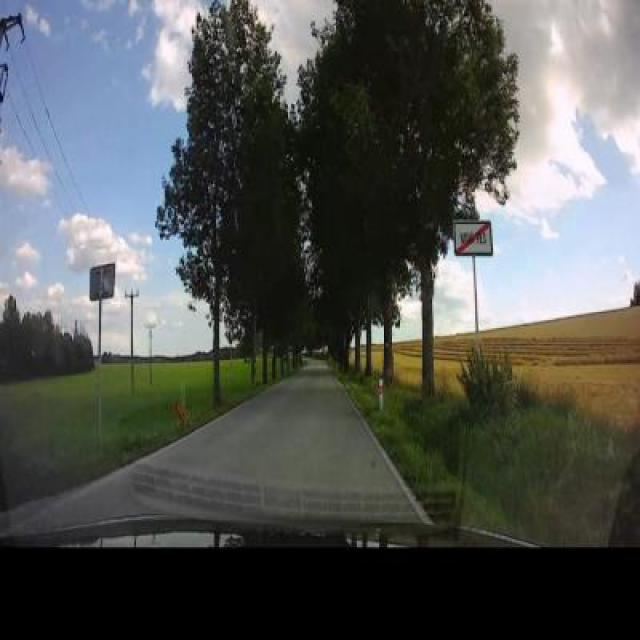clear-road: (153, 361, 420, 514)
